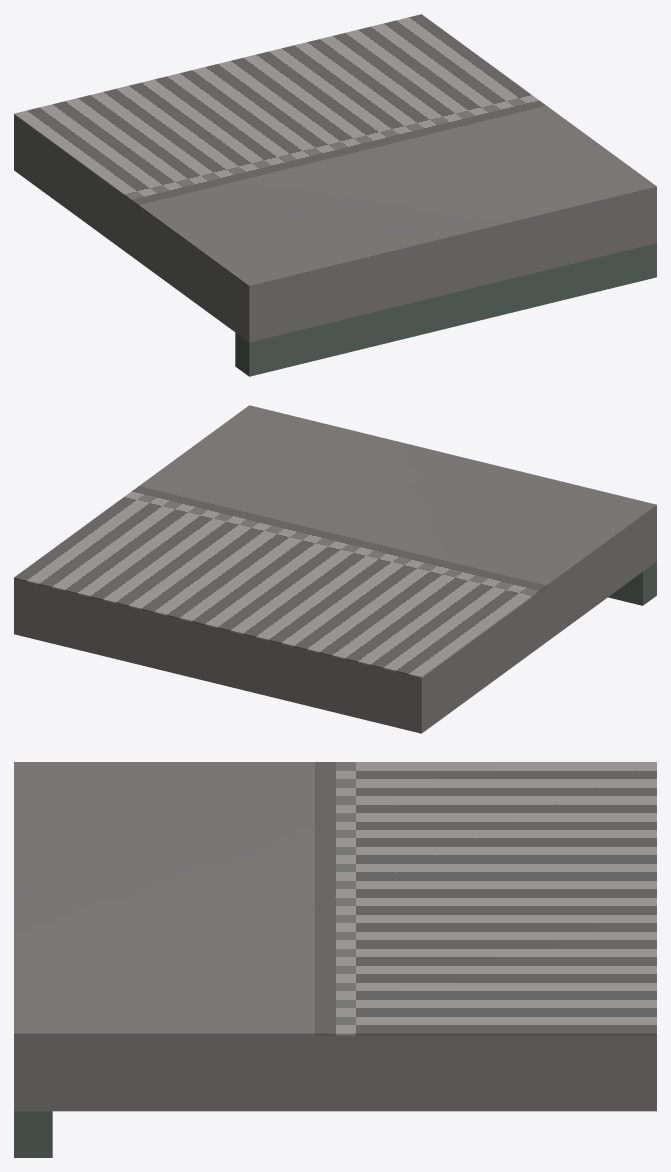
The model's file is CMU3DInteriorVehiclePizzaVanRoof3.glb.
The picture shows the model from 3 angles, top to bottom: view 1: azimuth 30°, elevation 25°; view 2: azimuth 150°, elevation 25°; view 3: azimuth 270°, elevation 25°; orthographic projection. The views are drawn at different scales.
Visible parts, largest first — view 1: overhead armor source finish, overhead armor, inner roof rib; view 2: overhead armor source finish, overhead armor, inner roof rib; view 3: overhead armor source finish, overhead armor, inner roof rib.
Part boxes in pixels (box(x1,y1,x2,y2)): overhead armor source finish: box(14, 14, 656, 286); overhead armor: box(14, 115, 656, 342); inner roof rib: box(235, 243, 656, 376); overhead armor source finish: box(14, 405, 656, 677); overhead armor: box(14, 506, 656, 733); inner roof rib: box(608, 561, 656, 605); overhead armor source finish: box(14, 762, 656, 1035); overhead armor: box(14, 1035, 656, 1111); inner roof rib: box(14, 1111, 52, 1157).
Size of the model in its own units: 1 by 0.213 by 1.
3 materials, 1 textured.
